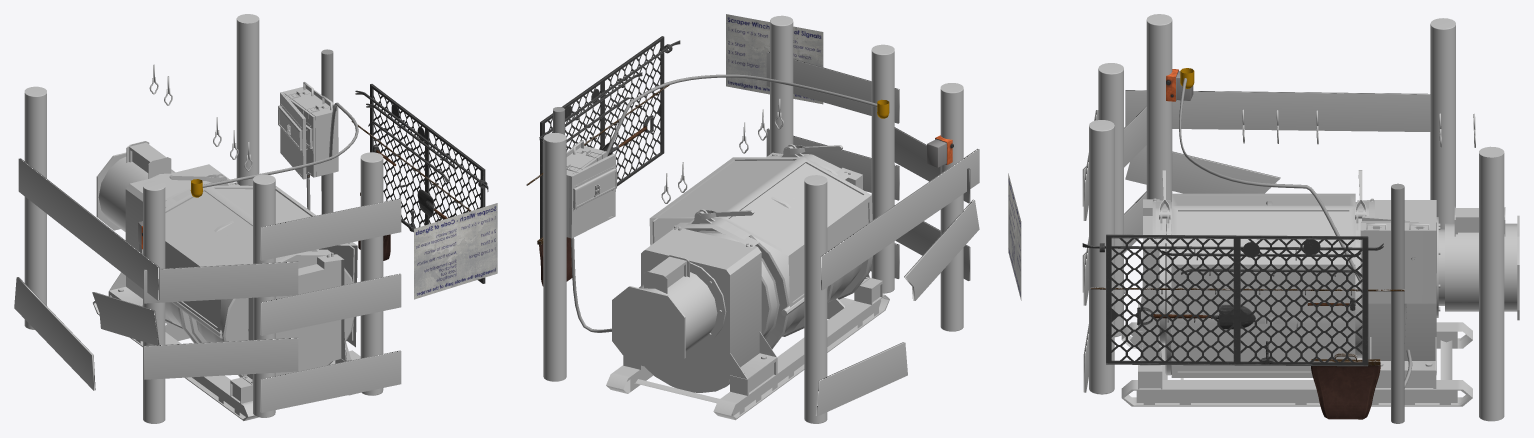
Rendered from Broken plank centre gulley winch.fbx.
3 views of the same model, side by side, from view 1: azimuth 30°, elevation 25°; view 2: azimuth 150°, elevation 25°; view 3: azimuth 270°, elevation 25° (orthographic). The views are drawn at different scales.
Parts seen in each view (by area): view 1: Winch, Winch_005, Tool_rack_001__1_, Code_of_signals, Wood_barricades_022, Wood_barricades_021.001, Wood_barricades_023, Wood_barricades_020, Wood_barricades_025, Wood_barricades_024, Wood_barricades_026, Wood_barricades_009 (+8 smaller); view 2: Winch, Winch_005, Tool_rack_001__1_, Cylinder_010, Wood_barricades_021.001, Wood_barricades_020, Wood_barricades_009, Wood_barricades_018, Code_of_signals, Wood_barricades_017, Power_box_not_locked__Hazard_, Wood_barricades_019 (+8 smaller); view 3: Winch, Winch_005, Tool_rack_001__1_, Wood_barricades_020, Cylinder_010, Wood_barricades_019, Wood_barricades_009, Wood_barricades_017, Power_box_not_locked__Hazard_, Wood_barricades_021.001, Wood_barricades_018, Cylinder (+6 smaller).
Part boxes in pixels (x1=…): Winch: x1=93, y1=141, x2=360, y2=420; Winch_005: x1=139, y1=185, x2=357, y2=347; Tool_rack_001__1_: x1=351, y1=84, x2=488, y2=283; Code_of_signals: x1=414, y1=203, x2=497, y2=299; Wood_barricades_022: x1=144, y1=337, x2=298, y2=379; Wood_barricades_021.001: x1=14, y1=277, x2=159, y2=390; Wood_barricades_023: x1=144, y1=261, x2=298, y2=303; Wood_barricades_020: x1=18, y1=158, x2=159, y2=300; Wood_barricades_025: x1=260, y1=350, x2=401, y2=412; Wood_barricades_024: x1=260, y1=273, x2=401, y2=335; Wood_barricades_026: x1=260, y1=198, x2=401, y2=260; Wood_barricades_009: x1=24, y1=86, x2=46, y2=329; Winch: x1=606, y1=144, x2=889, y2=420; Winch_005: x1=649, y1=157, x2=872, y2=307; Tool_rack_001__1_: x1=526, y1=36, x2=680, y2=286; Cylinder_010: x1=543, y1=133, x2=566, y2=381; Wood_barricades_021.001: x1=815, y1=199, x2=979, y2=416; Wood_barricades_020: x1=820, y1=148, x2=979, y2=290; Wood_barricades_009: x1=804, y1=175, x2=827, y2=423; Wood_barricades_018: x1=871, y1=44, x2=894, y2=293; Code_of_signals: x1=726, y1=14, x2=823, y2=104; Wood_barricades_017: x1=940, y1=83, x2=963, y2=331; Power_box_not_locked__Hazard_: x1=566, y1=140, x2=616, y2=238; Wood_barricades_019: x1=770, y1=15, x2=793, y2=154; Winch: x1=1121, y1=170, x2=1519, y2=406; Winch_005: x1=1171, y1=193, x2=1355, y2=377; Tool_rack_001__1_: x1=1082, y1=234, x2=1404, y2=419; Wood_barricades_020: x1=1125, y1=90, x2=1430, y2=131; Cylinder_010: x1=1479, y1=146, x2=1504, y2=421; Wood_barricades_019: x1=1089, y1=120, x2=1114, y2=394; Wood_barricades_009: x1=1430, y1=18, x2=1455, y2=229; Wood_barricades_017: x1=1146, y1=14, x2=1172, y2=201; Power_box_not_locked__Hazard_: x1=1361, y1=216, x2=1436, y2=303; Wood_barricades_021.001: x1=1125, y1=145, x2=1280, y2=193; Wood_barricades_018: x1=1098, y1=63, x2=1123, y2=337; Cylinder: x1=1391, y1=183, x2=1404, y2=423.
Bounding box in the file's own units: 258 × 185 × 310.
